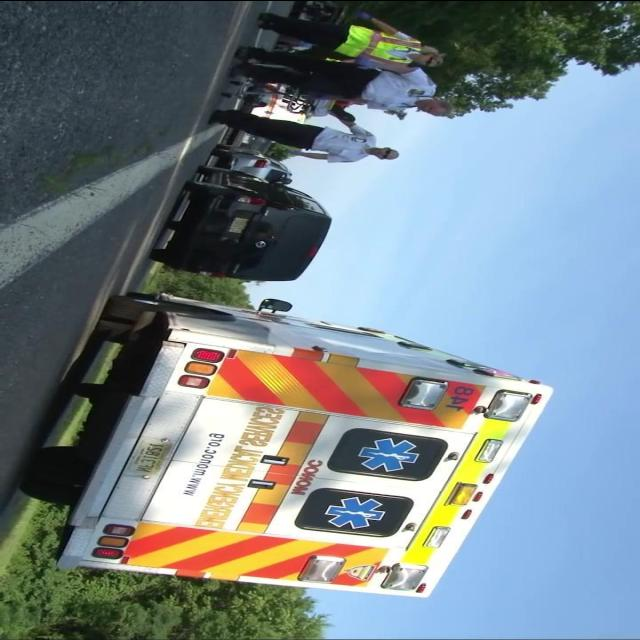jacket: (330, 20, 424, 76)
